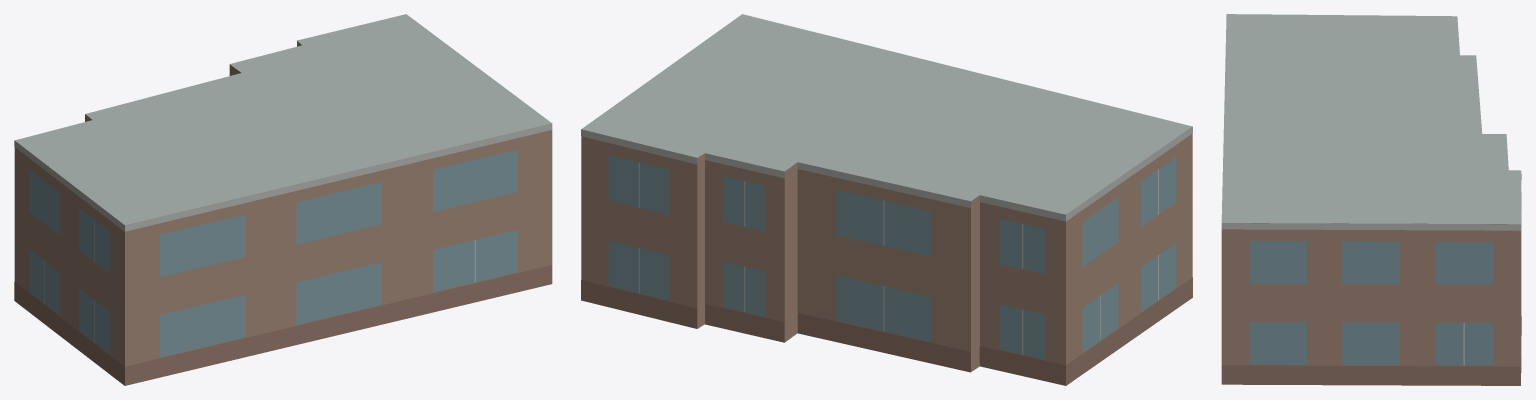
The model's file is survey-upis-32656578.glb.
3 views of the same model, side by side, from view 1: azimuth 30°, elevation 25°; view 2: azimuth 150°, elevation 25°; view 3: azimuth 270°, elevation 25° (orthographic). The views are drawn at different scales.
Visible parts, largest first — view 1: survey-upis-32656578.tmp; view 2: survey-upis-32656578.tmp; view 3: survey-upis-32656578.tmp.
Boxes of the visible parts, <box> form: survey-upis-32656578.tmp: <box>14,14,552,385</box>; survey-upis-32656578.tmp: <box>581,14,1192,385</box>; survey-upis-32656578.tmp: <box>1221,14,1521,385</box>.
Size of the model in its own units: 17.01 by 6.1 by 10.26.
